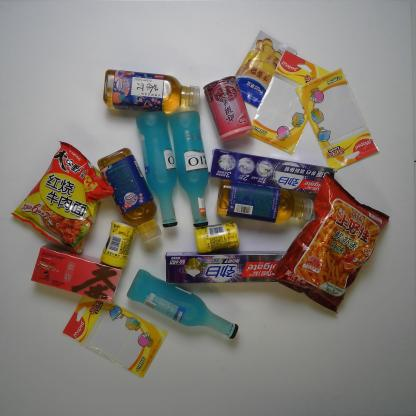Alcohol: (126, 267, 240, 341), (134, 110, 180, 228), (167, 110, 212, 229)
Canned Food: (203, 74, 255, 143)
Drink: (96, 147, 164, 245), (214, 178, 314, 228), (101, 67, 202, 114)
Gum: (100, 218, 136, 271), (191, 219, 242, 254)
Instant Drink: (30, 242, 126, 304)
Instant Noodles: (9, 138, 115, 257)
Personal Hygiene: (207, 146, 338, 196), (163, 249, 288, 287)
Puffed Food: (264, 172, 392, 318)
Seasoner: (231, 28, 298, 110)
Stationery: (60, 292, 170, 381), (294, 64, 382, 174), (247, 49, 332, 156)
